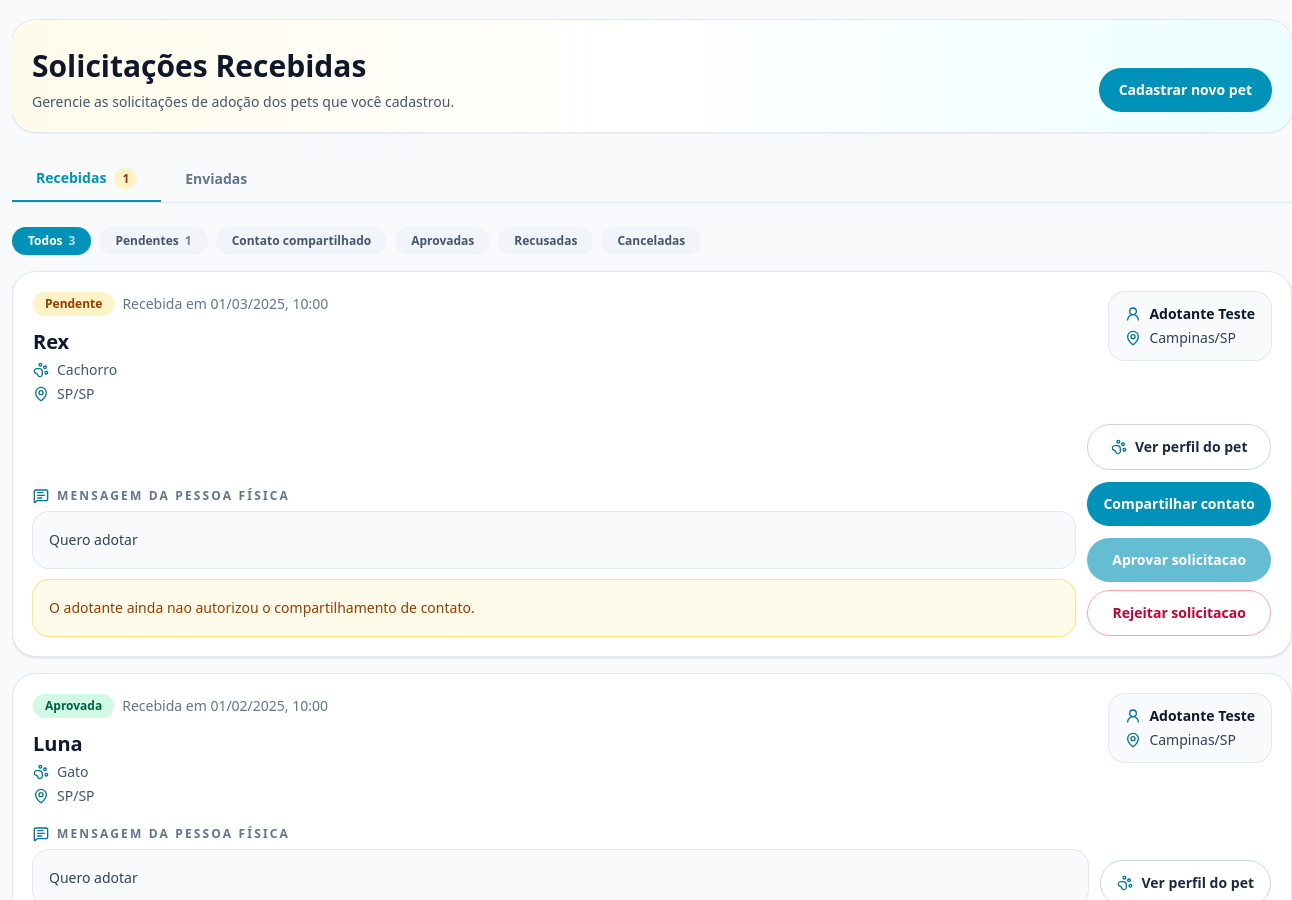
Scenario: AdoptionRequestsPage › filtra solicitações por status Pendentes
The image size is (1292, 900).
Click the button "Pendentes1" at (154, 241), box [99, 227, 208, 255]
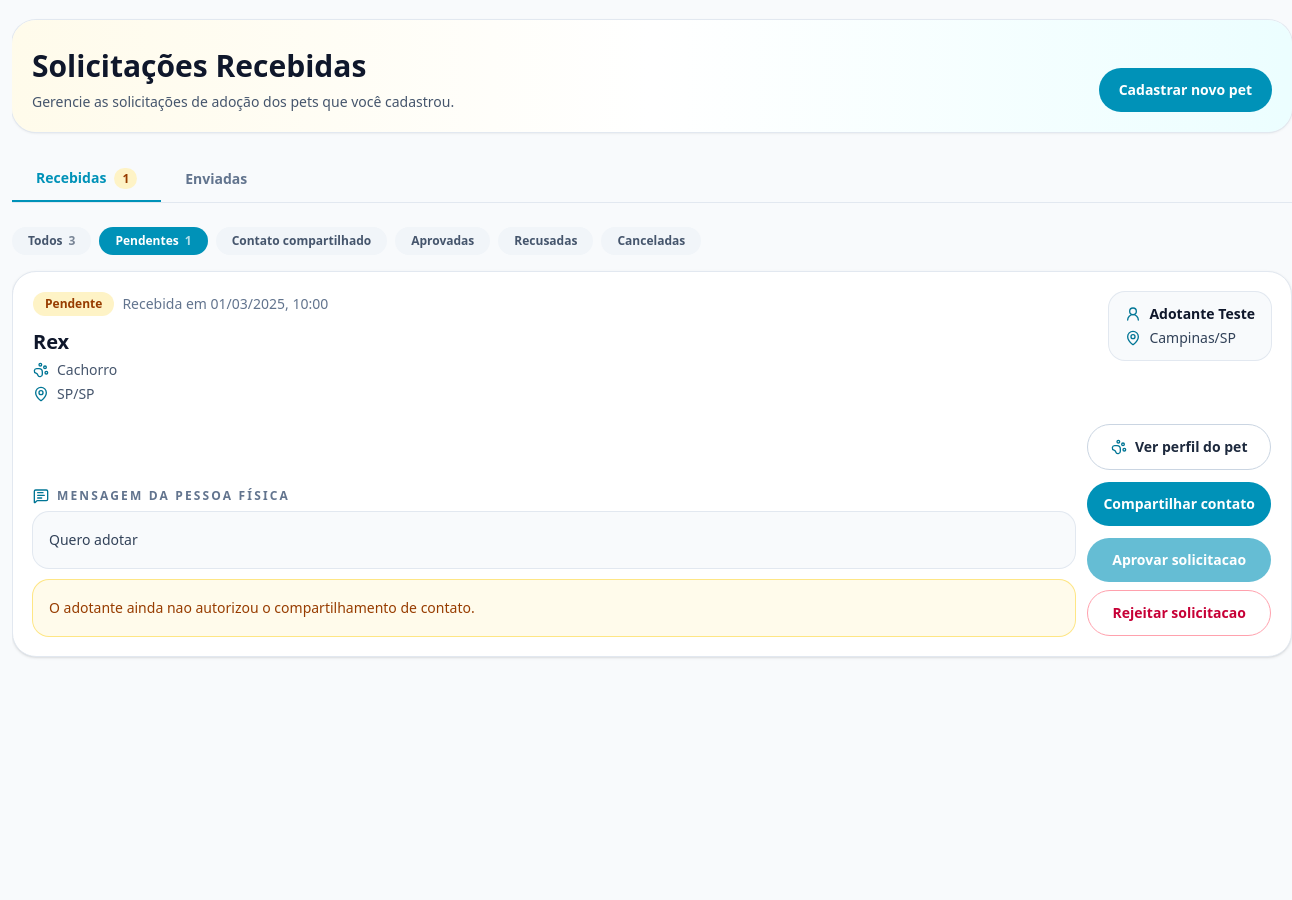
Expected: the heading "Rex" is shown, [33, 328, 69, 355]
Expected: the heading "Luna" is gone
